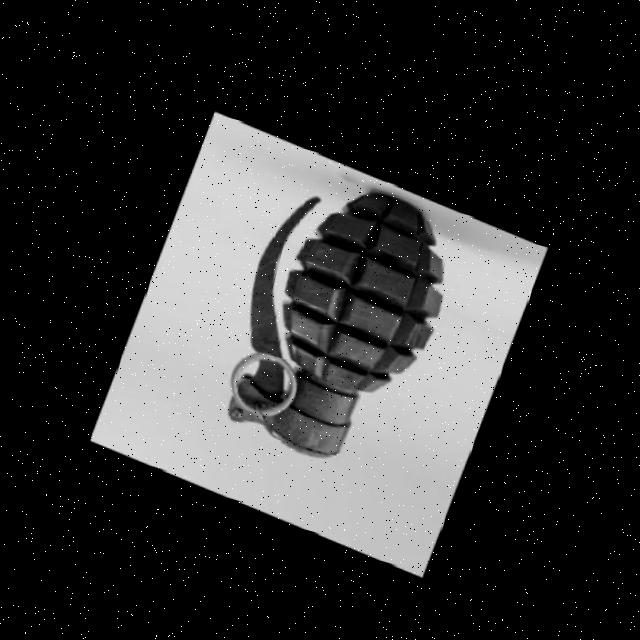grenade: (181, 139, 483, 503)
